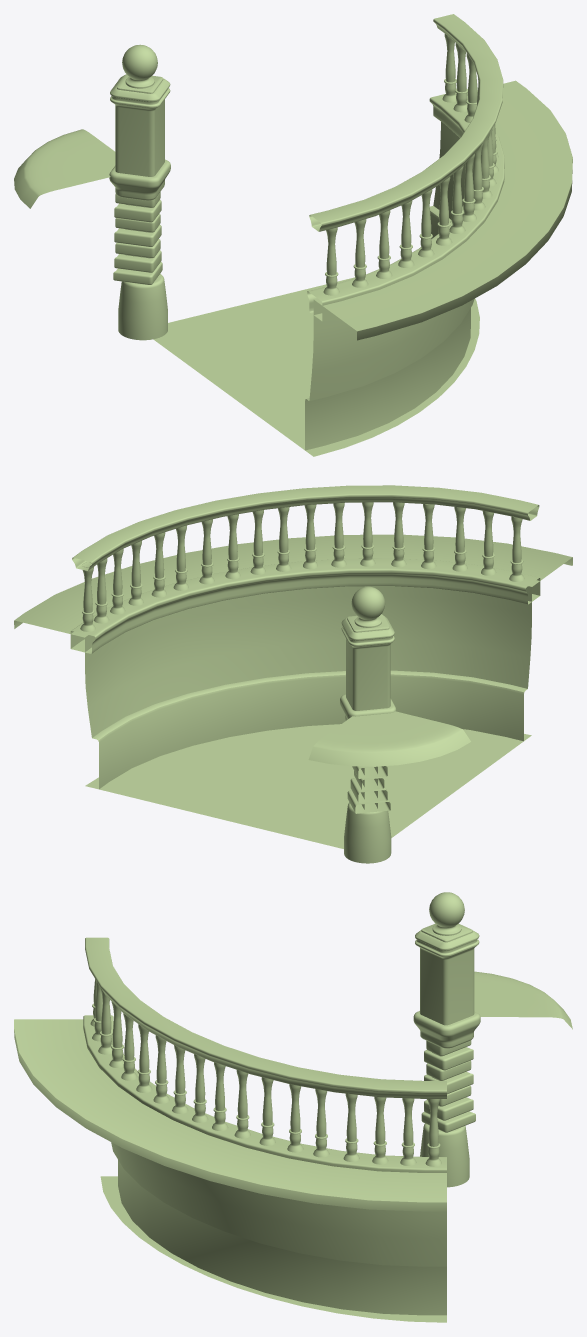
File: River_modular_Curve_90_03.FBX
The picture shows the model from 3 angles, top to bottom: view 1: azimuth 30°, elevation 25°; view 2: azimuth 150°, elevation 25°; view 3: azimuth 270°, elevation 25°; orthographic projection. The views are drawn at different scales.
Parts seen in each view (by area): view 1: River_modular_Curve_90_02_LOD0; view 2: River_modular_Curve_90_02_LOD0; view 3: River_modular_Curve_90_02_LOD0.
Boxes of the visible parts, x1,y1,x2,y2 form: River_modular_Curve_90_02_LOD0: (14,14,572,456); River_modular_Curve_90_02_LOD0: (14,485,572,863); River_modular_Curve_90_02_LOD0: (14,892,572,1322).
Bounding box in the file's own units: 645 × 645 × 360.
